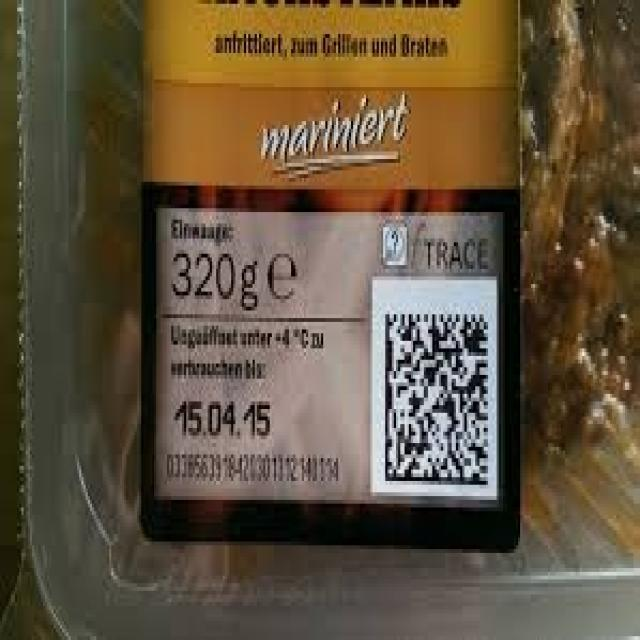datamatrix: (379, 299, 496, 508)
